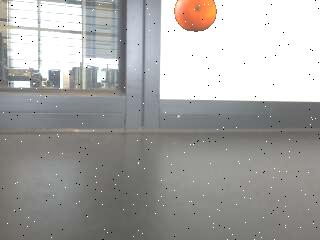Orange: (174, 0, 218, 33)
